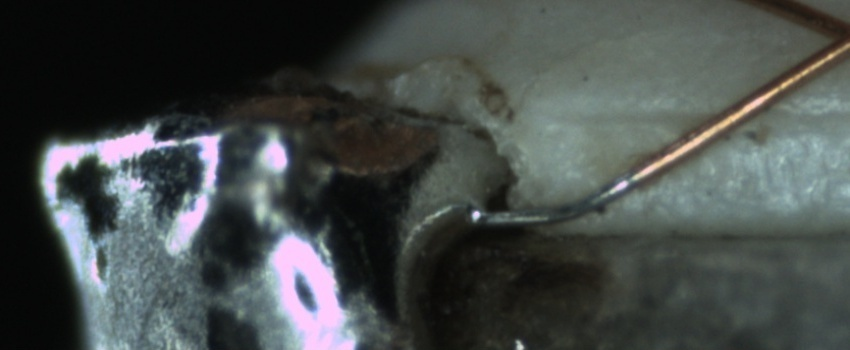CL: (803, 3, 850, 68)
DL: (558, 83, 849, 152)
TS: (483, 169, 647, 230)
TTCW: (461, 152, 669, 233)
